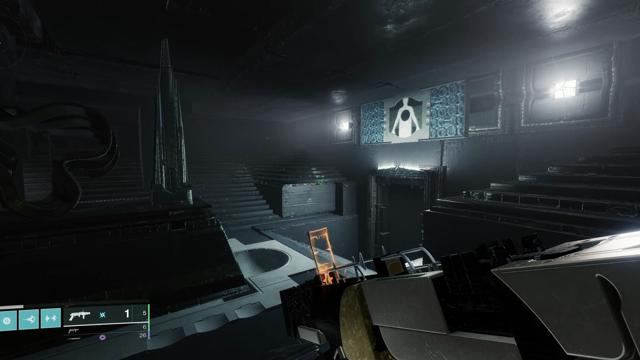grief: (389, 97, 423, 138)
